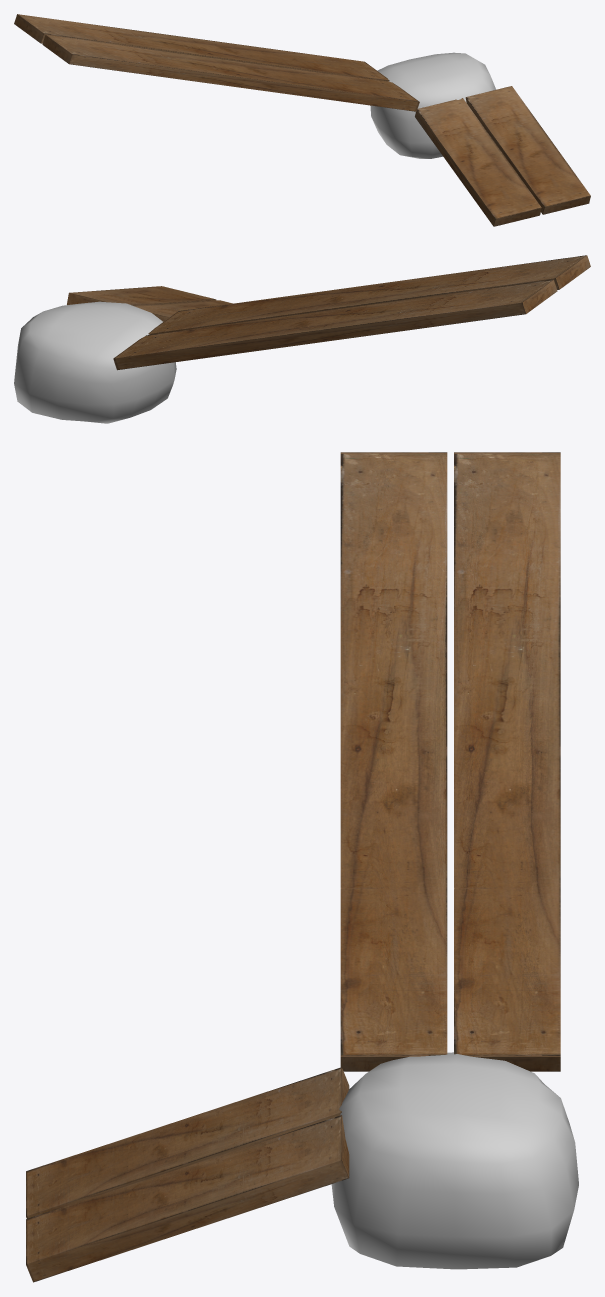
File: plank-ramp.fbx
3 views of the same model, one above another, from view 1: azimuth 30°, elevation 25°; view 2: azimuth 150°, elevation 25°; view 3: azimuth 270°, elevation 25° (orthographic). The views are drawn at different scales.
Parts seen in each view (by area): view 1: plank ramp; view 2: plank ramp; view 3: plank ramp.
Boxes of the visible parts, box(x1,y1,x2,y2) form: plank ramp: box(14, 14, 590, 226); plank ramp: box(14, 255, 590, 423); plank ramp: box(26, 452, 578, 1282).
Size of the model in its own units: 9.68 by 4.23 by 5.18.
